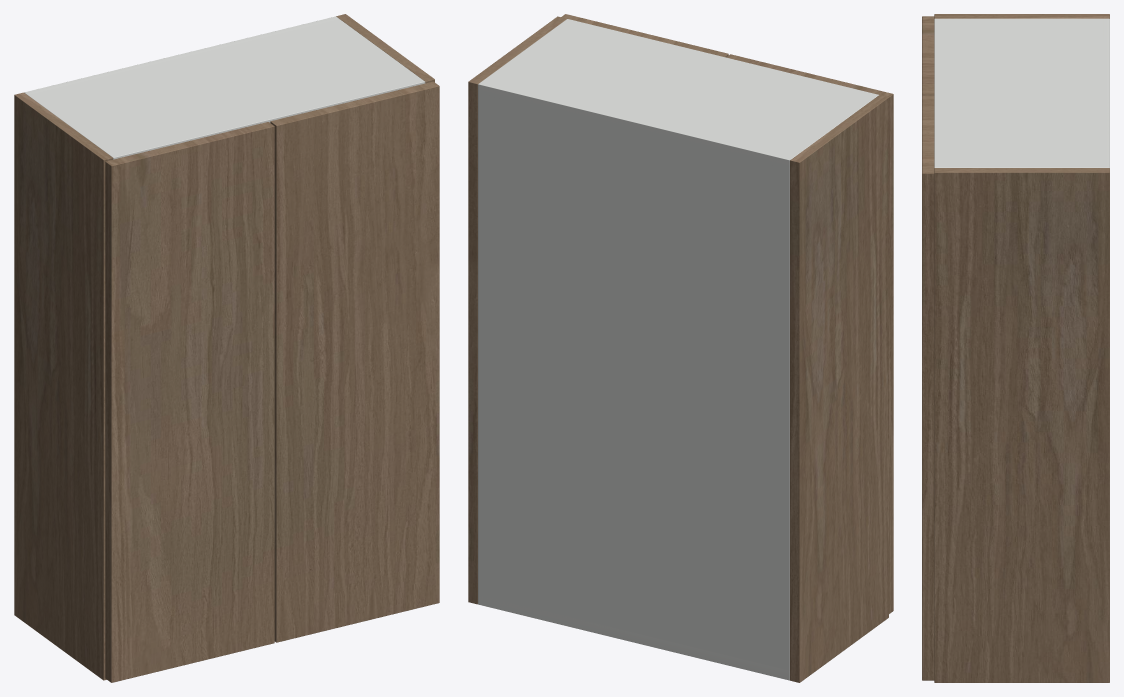
File: oppein-pb-mnw-w2436.glb
3 renders of one model, left to right at view 1: azimuth 30°, elevation 25°; view 2: azimuth 150°, elevation 25°; view 3: azimuth 270°, elevation 25°, orthographic.
Visible parts, largest first — view 1: Door, Door.001, Cabinet side, Cabinet top, Cabinet back, Cabinet side.001; view 2: Cabinet back, Cabinet side, Cabinet top, Cabinet side.001, Door, Cabinet bottom, Door.001; view 3: Cabinet side.001, Cabinet top, Door.001, Cabinet back, Door, Cabinet side.
Part boxes in pixels (left/top/right/bottom): Door: left=105, top=122, right=274, bottom=682; Door.001: left=270, top=81, right=439, bottom=642; Cabinet side: left=14, top=92, right=113, bottom=680; Cabinet top: left=25, top=17, right=425, bottom=159; Cabinet back: left=24, top=16, right=338, bottom=94; Cabinet side.001: left=336, top=14, right=434, bottom=83; Cabinet back: left=478, top=81, right=792, bottom=670; Cabinet side: left=790, top=95, right=888, bottom=682; Cabinet top: left=478, top=19, right=878, bottom=168; Cabinet side.001: left=468, top=16, right=566, bottom=604; Door: left=726, top=54, right=893, bottom=613; Cabinet bottom: left=478, top=599, right=789, bottom=680; Door.001: left=561, top=14, right=728, bottom=57; Cabinet side.001: left=934, top=168, right=1109, bottom=682; Cabinet top: left=934, top=18, right=1109, bottom=167; Door.001: left=922, top=95, right=934, bottom=680; Cabinet back: left=1103, top=18, right=1109, bottom=167; Door: left=922, top=16, right=934, bottom=95; Cabinet side: left=934, top=14, right=1109, bottom=18.
Size of the model in its own units: 0.6096 by 0.9144 by 0.3048.
Materials: 2 (1 with a texture image).
